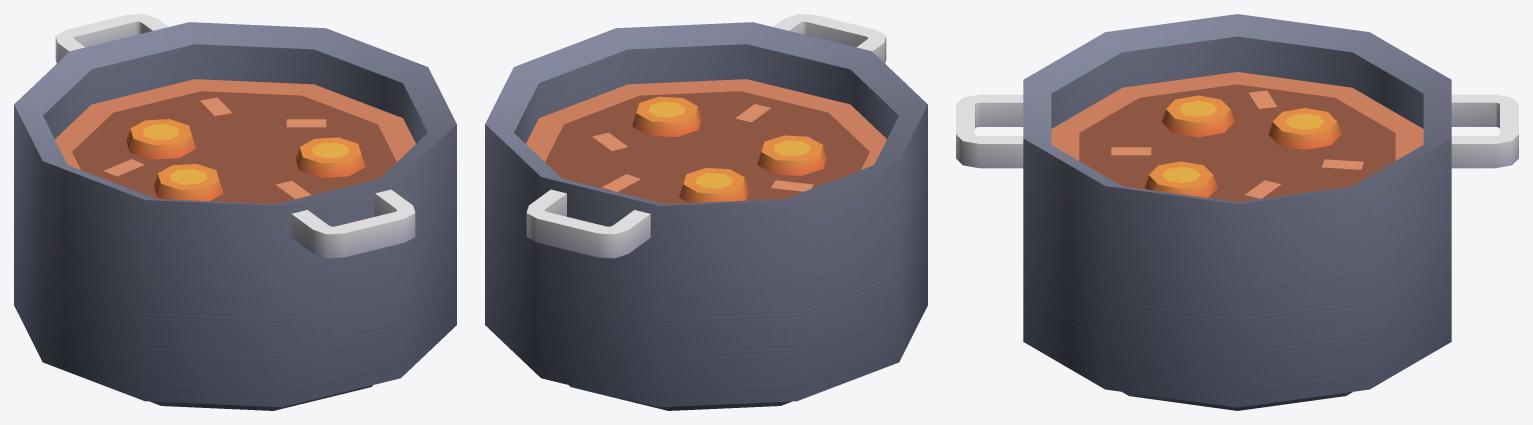
File: pot-stew.glb
3 renders of one model, left to right at view 1: azimuth 30°, elevation 25°; view 2: azimuth 150°, elevation 25°; view 3: azimuth 270°, elevation 25°, orthographic.
Visible parts, largest first — view 1: pot-stew; view 2: pot-stew; view 3: pot-stew.
Part boxes in pixels (x1,y1,x2,y2): pot-stew: (14,14,456,410); pot-stew: (485,14,927,410); pot-stew: (956,14,1518,410).
Bounding box in the file's own units: 0.6575 × 0.3608 × 0.8221.
Materials: 1 (1 with a texture image).
